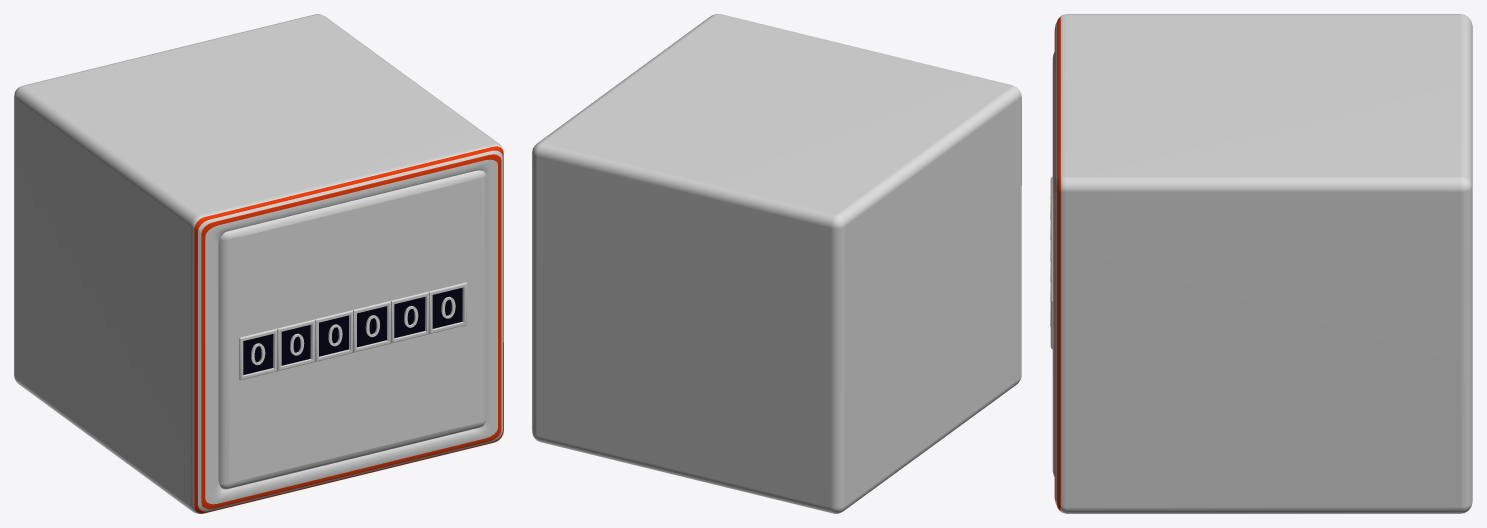
The model's file is safe-idel (1).fbx.
The picture shows the model from 3 angles, left to right: view 1: azimuth 30°, elevation 25°; view 2: azimuth 150°, elevation 25°; view 3: azimuth 270°, elevation 25°; orthographic projection. The views are drawn at different scales.
Parts seen in each view (by area): view 1: base, door2; view 2: base; view 3: base, door2.
Part boxes in pixels (box(x1,y1,x2,y2)): base: box(14, 14, 503, 513); door2: box(218, 170, 486, 489); base: box(532, 14, 1021, 513); base: box(1054, 14, 1472, 513); door2: box(1050, 52, 1054, 476).
Bounding box in the file's own units: 2.92 × 2.67 × 3.04.
